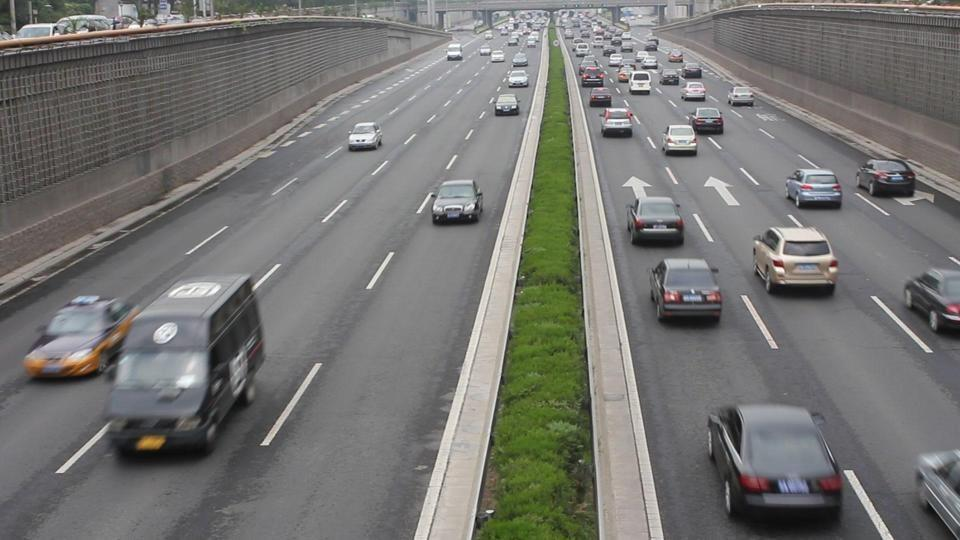car: (103, 273, 268, 458), (705, 403, 846, 525), (22, 295, 140, 379), (752, 224, 840, 295), (648, 257, 724, 322), (913, 448, 960, 537), (904, 261, 960, 335), (626, 196, 685, 246), (431, 179, 484, 225), (855, 158, 915, 198), (784, 169, 843, 208), (52, 14, 115, 35), (662, 123, 700, 156), (600, 106, 635, 138), (689, 107, 725, 135), (348, 123, 384, 151), (579, 64, 605, 87), (680, 80, 707, 102), (494, 93, 519, 116), (629, 72, 652, 95), (589, 88, 613, 108), (507, 70, 529, 88), (511, 51, 528, 67)
